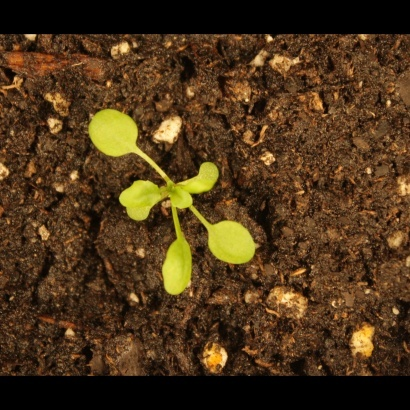leaf: (77, 109, 146, 161), (205, 220, 260, 271), (159, 227, 199, 297), (113, 177, 165, 223), (176, 162, 228, 198), (169, 182, 196, 215)
